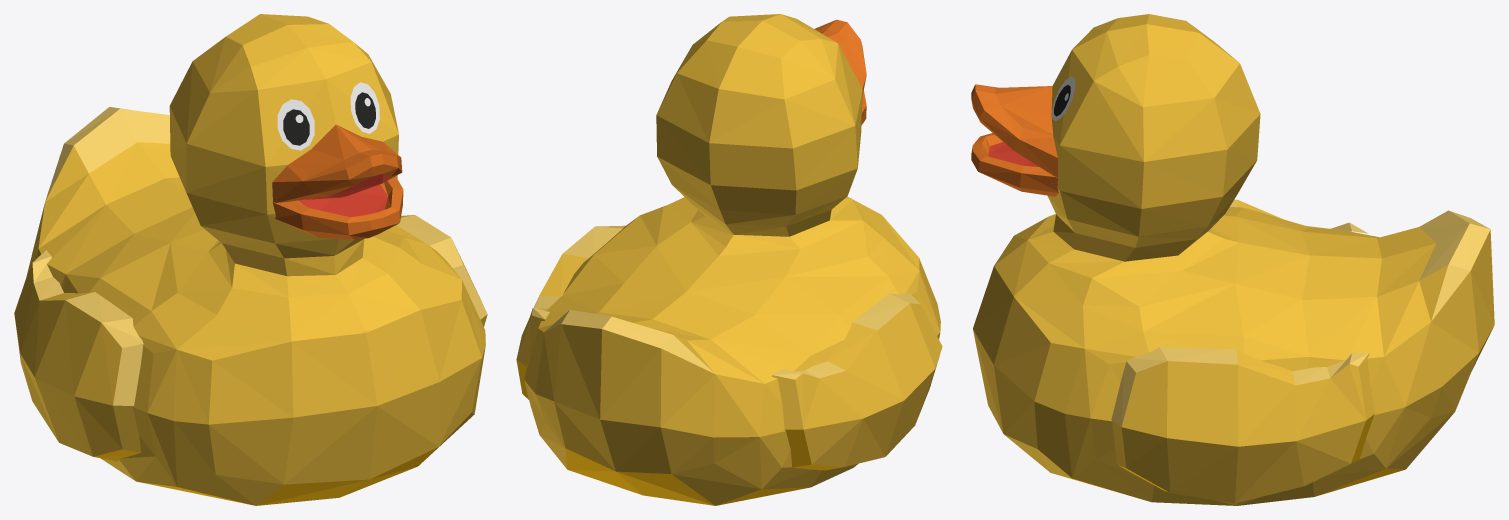
The model's file is duck.gltf.
3 renders of one model, left to right at view 1: azimuth 30°, elevation 25°; view 2: azimuth 150°, elevation 25°; view 3: azimuth 270°, elevation 25°, orthographic. The views are drawn at different scales.
Visible parts, largest first — view 1: RubberDuck; view 2: RubberDuck; view 3: RubberDuck.
Part boxes in pixels (bbox=[...]): RubberDuck: bbox=[14, 14, 487, 505]; RubberDuck: bbox=[516, 14, 942, 505]; RubberDuck: bbox=[971, 14, 1494, 505].
Bounding box in the file's own units: 1.36 × 1.43 × 1.56.
Materials: 1 (1 with a texture image).
